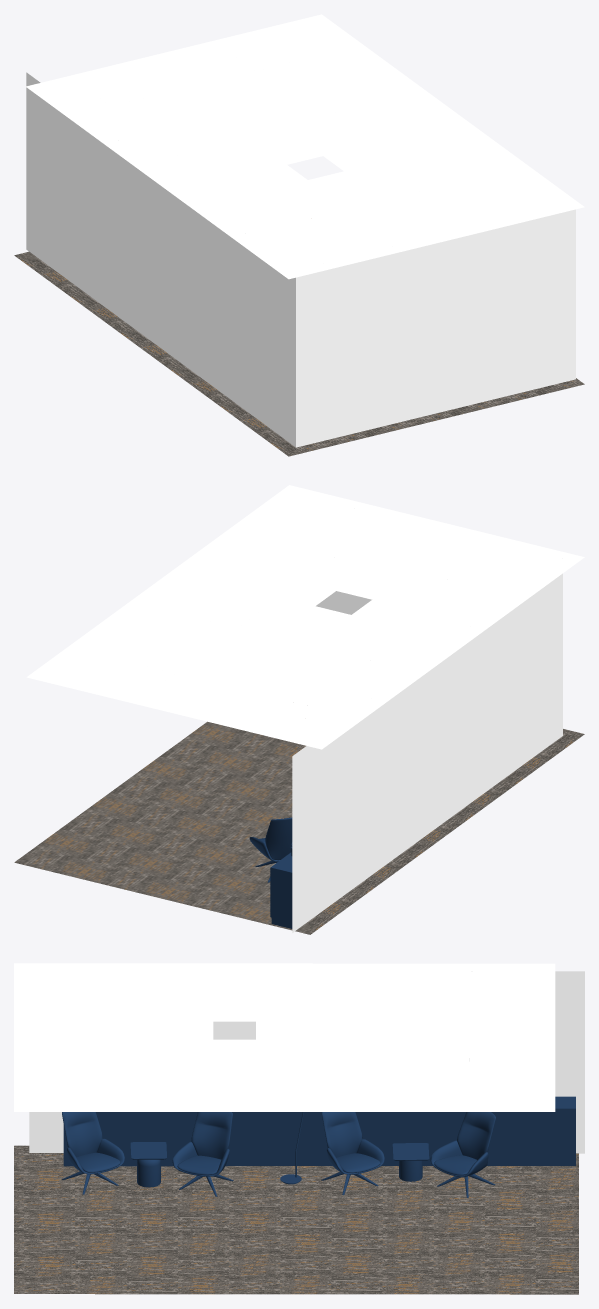
Rendered from Forum_Example.glb.
3 renders of one model, top to bottom at view 1: azimuth 30°, elevation 25°; view 2: azimuth 150°, elevation 25°; view 3: azimuth 270°, elevation 25°, orthographic. The views are drawn at different scales.
Parts seen in each view (by area): view 1: LM_CoresWalls, LM_TavanCasetat4, LM_Flr.002, ArrayCeiling_flr4_fit2_1234.005; view 2: LM_TavanCasetat4, LM_CoresWalls, LM_Flr.002, ArrayCeiling_flr4_fit2_1234.005, white_storage.010, actium_noom_navy.032; view 3: LM_TavanCasetat4, LM_Flr.002, LM_CoresWalls, white_storage.010, white_storage.012, ArrayCeiling_flr4_fit2_1234.005, white_storage.011, white_storage.013, actium_noom_navy.034, actium_noom_navy.032, actium_noom_navy.031, actium_noom_navy.033 (+2 smaller).
Part boxes in pixels (x1,y1,x2,y2): LM_CoresWalls: (26,72,575,447); LM_TavanCasetat4: (26,14,584,279); LM_Flr.002: (14,251,584,456); ArrayCeiling_flr4_fit2_1234.005: (90,47,457,227); LM_TavanCasetat4: (26,485,584,749); LM_CoresWalls: (292,573,562,932); LM_Flr.002: (14,721,584,934); ArrayCeiling_flr4_fit2_1234.005: (119,543,484,723); white_storage.010: (270,852,292,928); actium_noom_navy.032: (249,817,292,882); LM_TavanCasetat4: (14,963,555,1111); LM_Flr.002: (14,1145,578,1294); LM_CoresWalls: (29,971,584,1153); white_storage.010: (448,1096,575,1165); white_storage.012: (191,1112,319,1166); ArrayCeiling_flr4_fit2_1234.005: (128,985,512,1075); white_storage.011: (319,1112,447,1165); white_storage.013: (63,1112,191,1166); actium_noom_navy.034: (172,1112,233,1196); actium_noom_navy.032: (430,1112,495,1197); actium_noom_navy.031: (321,1112,384,1195); actium_noom_navy.033: (61,1112,124,1194).
Size of the model in its own units: 4.95 by 2.83 by 8.01.
5 materials, 1 textured.
